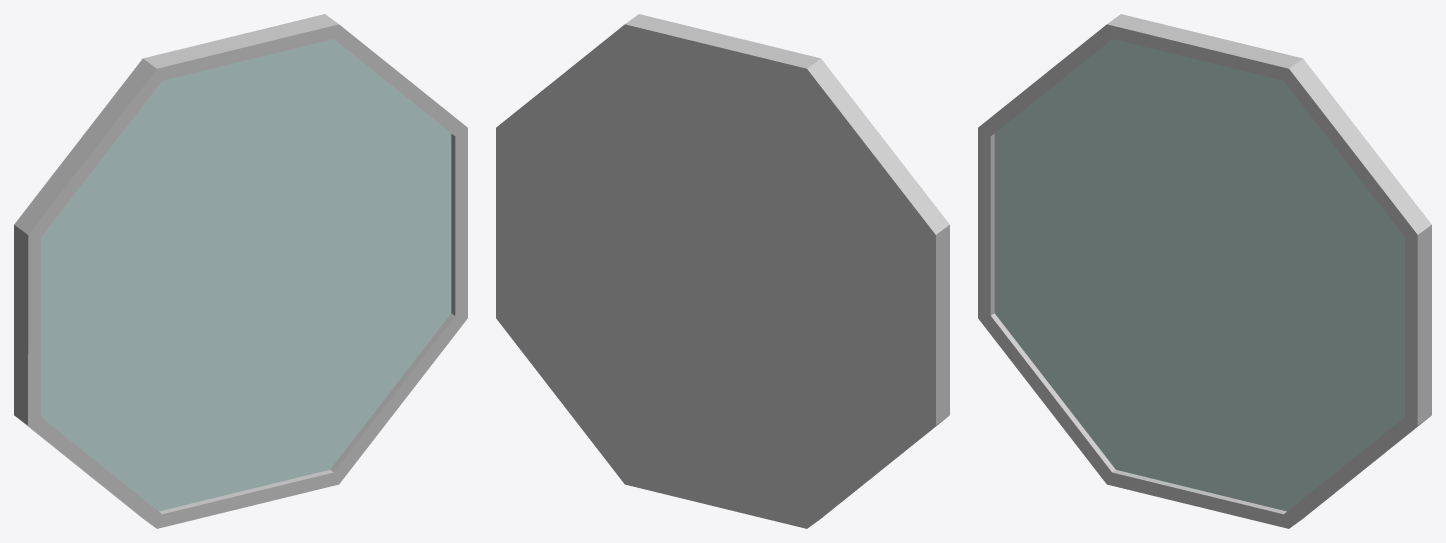
Rendered from Mirror_04_C1.fbx.
The picture shows the model from 3 angles, left to right: view 1: azimuth 30°, elevation 25°; view 2: azimuth 150°, elevation 25°; view 3: azimuth 330°, elevation 25°; orthographic projection.
Parts seen in each view (by area): view 1: Mirror_04_C1; view 2: Mirror_04_C1; view 3: Mirror_04_C1.
Part boxes in pixels (left/top/right/bottom): Mirror_04_C1: left=14, top=14, right=467, bottom=528; Mirror_04_C1: left=496, top=14, right=949, bottom=528; Mirror_04_C1: left=978, top=14, right=1431, bottom=528.
Bounding box in the file's own units: 90 × 90 × 5.
